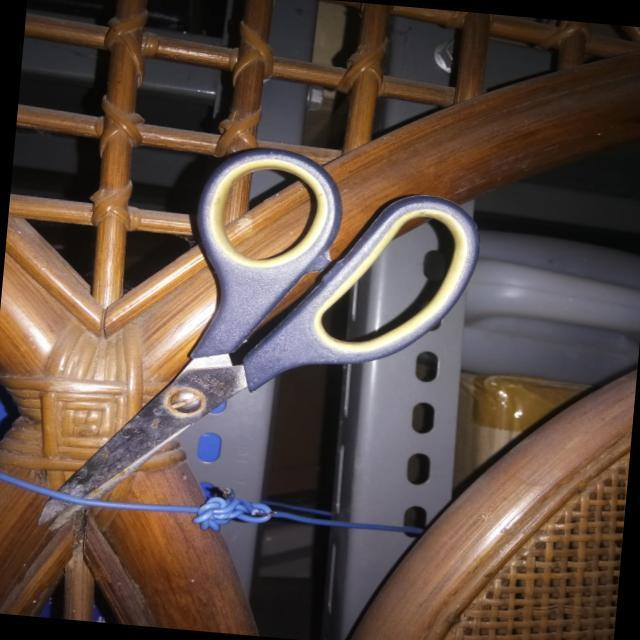scissors: (26, 114, 505, 554)
